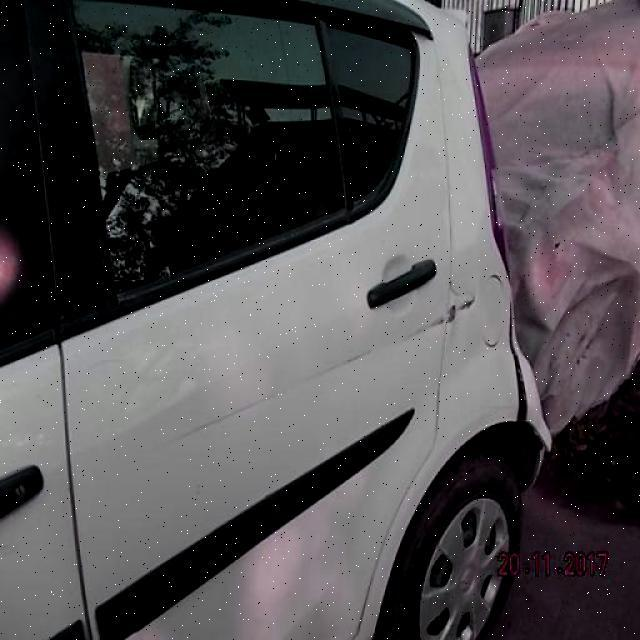car damage: (143, 284, 479, 455), (507, 302, 532, 421)
